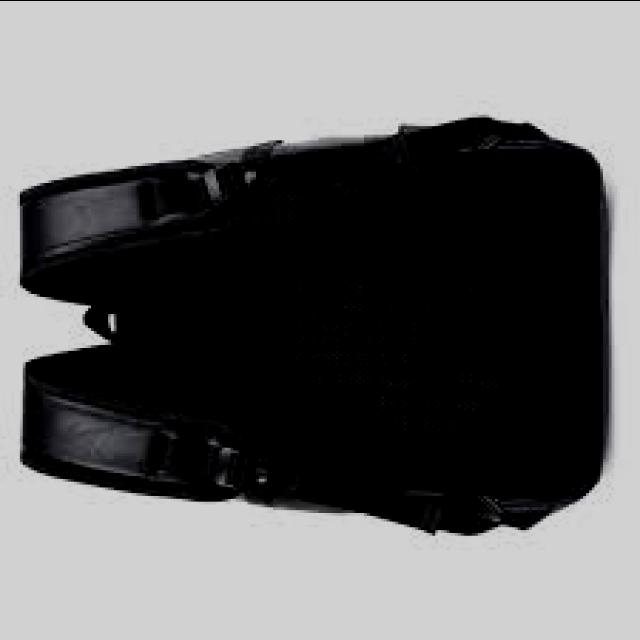backpack: (15, 118, 607, 539)
